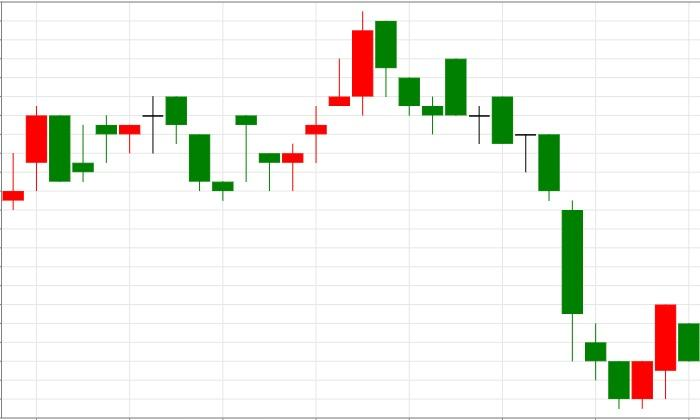bullish_engulfing_rise: (445, 58, 652, 408)
